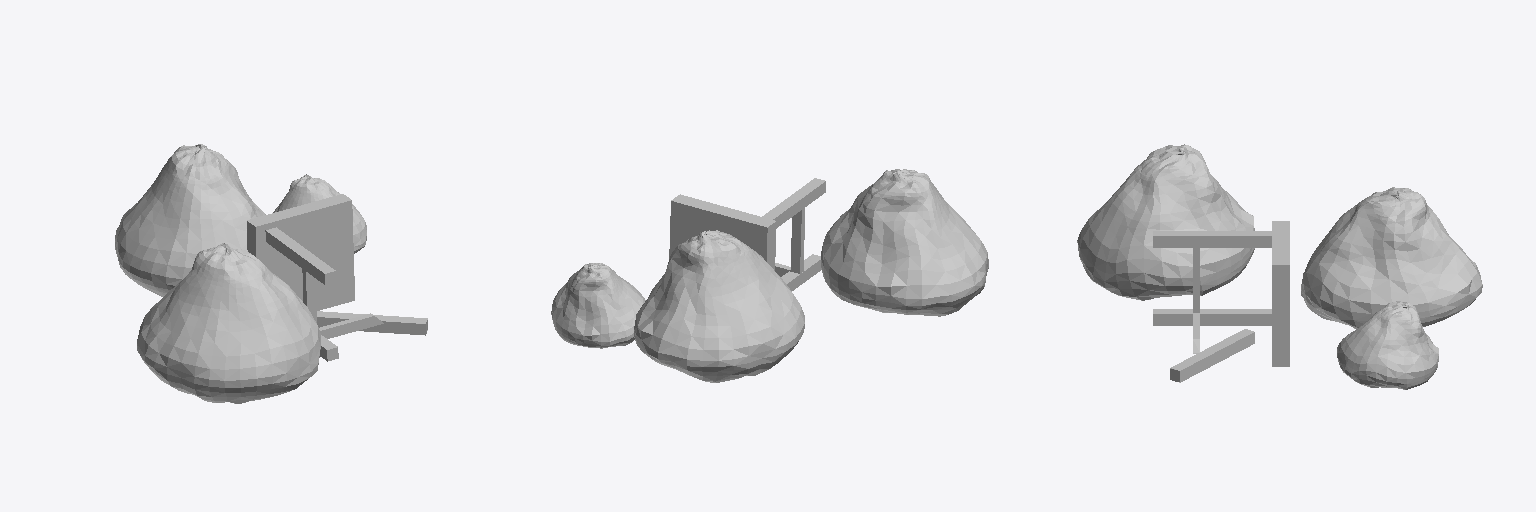
Rendered from uploads_files_3024758_trash+obj.obj.
3 views of the same model, side by side, from view 1: azimuth 30°, elevation 25°; view 2: azimuth 150°, elevation 25°; view 3: azimuth 270°, elevation 25° (orthographic).
Visible parts, largest first — view 1: trash_2_Mesh.001; view 2: trash_2_Mesh.001; view 3: trash_2_Mesh.001.
Boxes of the visible parts, x1=… form: trash_2_Mesh.001: x1=115, y1=144, x2=427, y2=403; trash_2_Mesh.001: x1=551, y1=169, x2=988, y2=382; trash_2_Mesh.001: x1=1077, y1=144, x2=1482, y2=389.
Size of the model in its own units: 5.39 by 2.23 by 5.96.